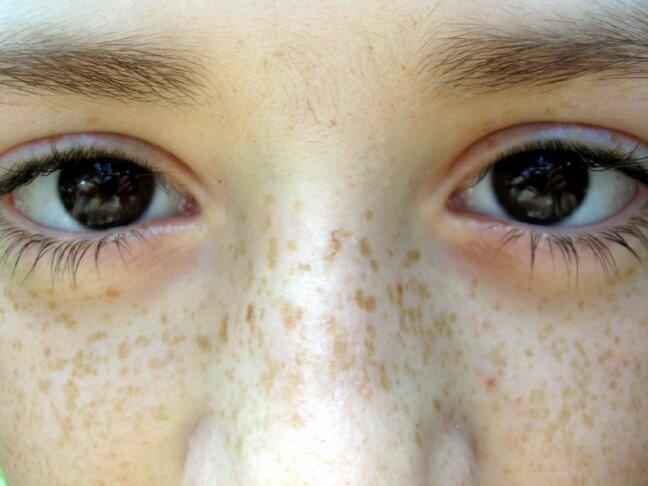Dark-Spots: (2, 195, 648, 486)
